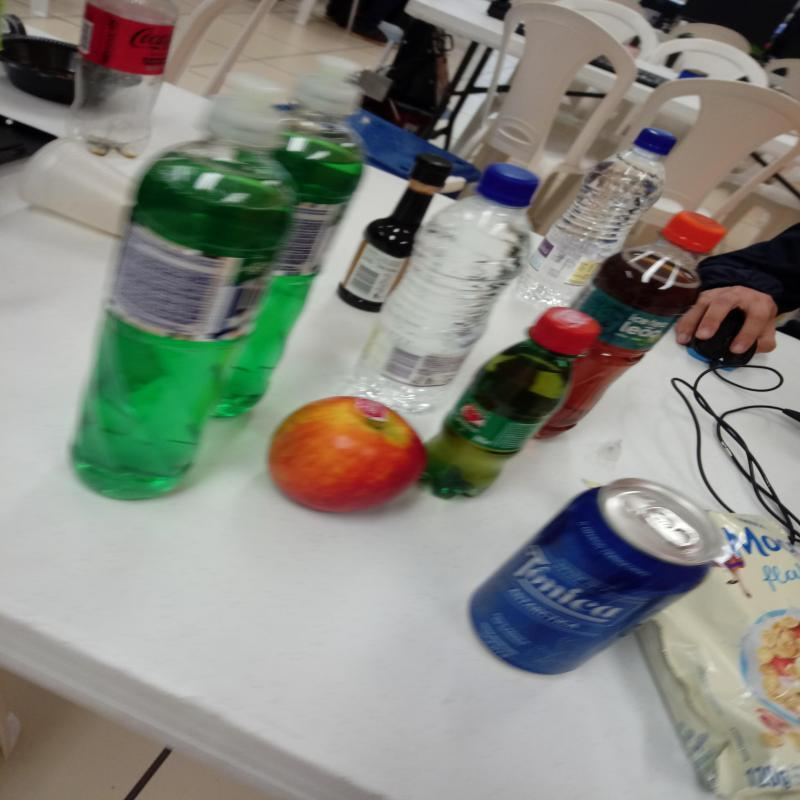Apple: (269, 395, 428, 514)
Cleaner: (67, 71, 346, 493)
CornFlakes: (636, 505, 800, 800)
EnglishSauce: (335, 151, 468, 312)
Guarana: (422, 304, 603, 498)
IceTea: (517, 212, 729, 441)
Tonic: (476, 479, 725, 680)
Water: (357, 159, 540, 404), (514, 126, 676, 306)
